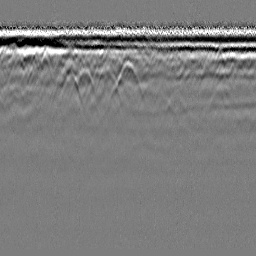cavity: (111, 56, 145, 98)
